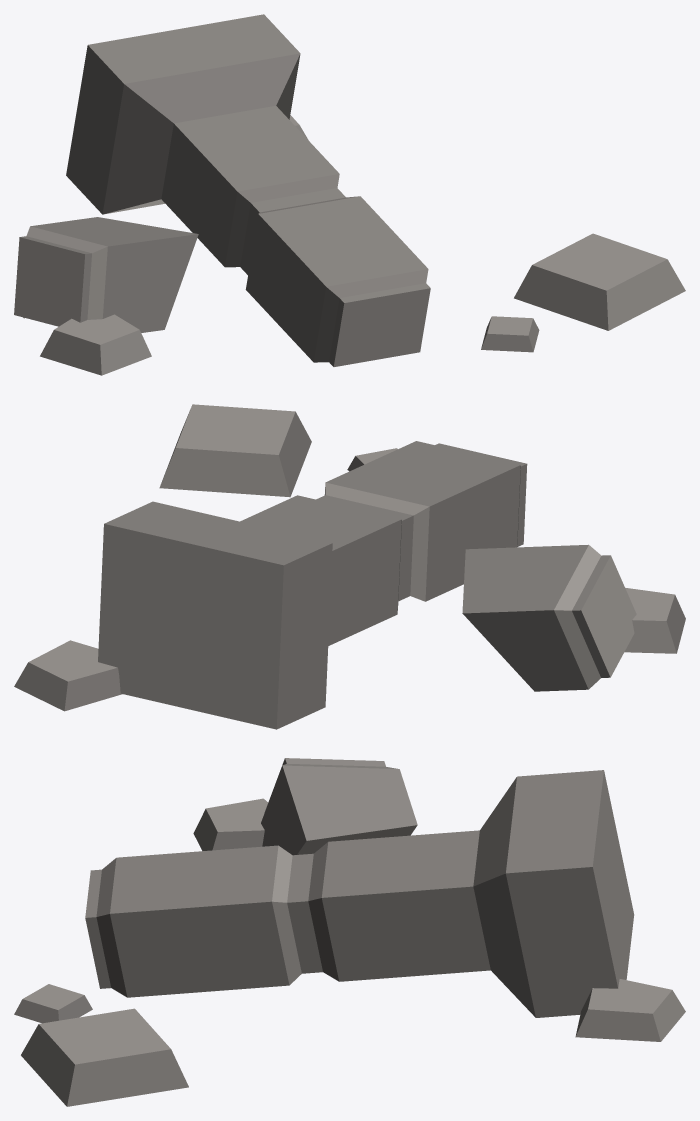
File: SD_Env_Pillar_Stone_Broken_03.fbx
3 renders of one model, top to bottom at view 1: azimuth 30°, elevation 25°; view 2: azimuth 150°, elevation 25°; view 3: azimuth 270°, elevation 25°, orthographic. The views are drawn at different scales.
Parts seen in each view (by area): view 1: SD_Env_Pillar_Stone_Broken_03; view 2: SD_Env_Pillar_Stone_Broken_03; view 3: SD_Env_Pillar_Stone_Broken_03.
Boxes of the visible parts, x1,y1,x2,y2 form: SD_Env_Pillar_Stone_Broken_03: [14, 14, 685, 375]; SD_Env_Pillar_Stone_Broken_03: [14, 404, 685, 729]; SD_Env_Pillar_Stone_Broken_03: [14, 758, 685, 1106].
Bounding box in the file's own units: 4.1 × 1.15 × 4.05.
